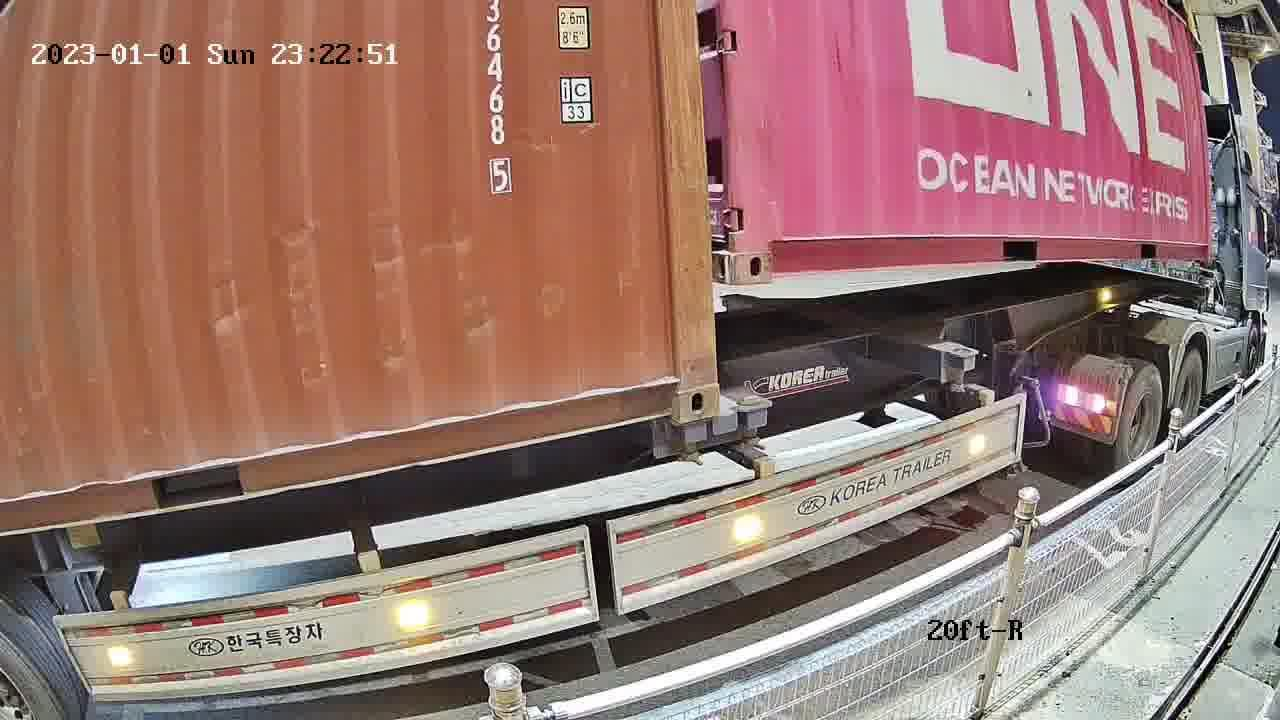Cone: (732, 394, 769, 453), (675, 422, 707, 467)
Hole_L: (738, 210, 804, 283)
Hole_R: (637, 353, 721, 427)
Tire: (1121, 367, 1163, 471), (1173, 352, 1201, 435)
